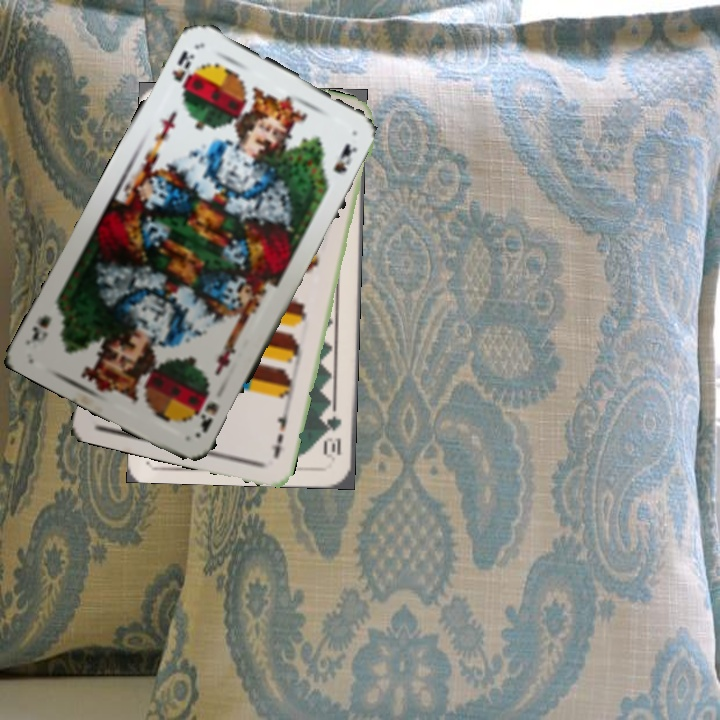E7: (269, 403, 292, 461)
G10: (320, 411, 344, 458)
SK: (168, 46, 200, 100), (192, 387, 222, 436)
